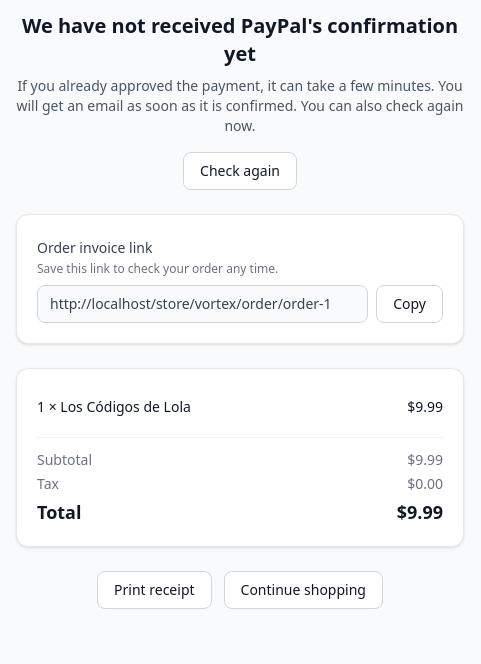
Scenario: returning from PayPal › does not claim a payment that PayPal has not completed, and lets the buyer check again
Check: the heading "We have not received PayPal's confirmation yet" is shown, box [16,12,464,68]
Check: the text "payment confirmed" is not shown
Click the button "Check again". click: (240, 171)
box: [183,152,297,190]
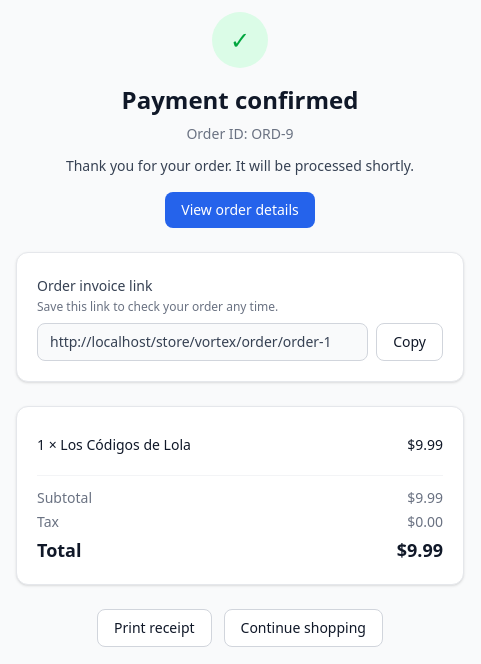
Check: the heading "Payment confirmed" is shown, box [122,83,358,116]
